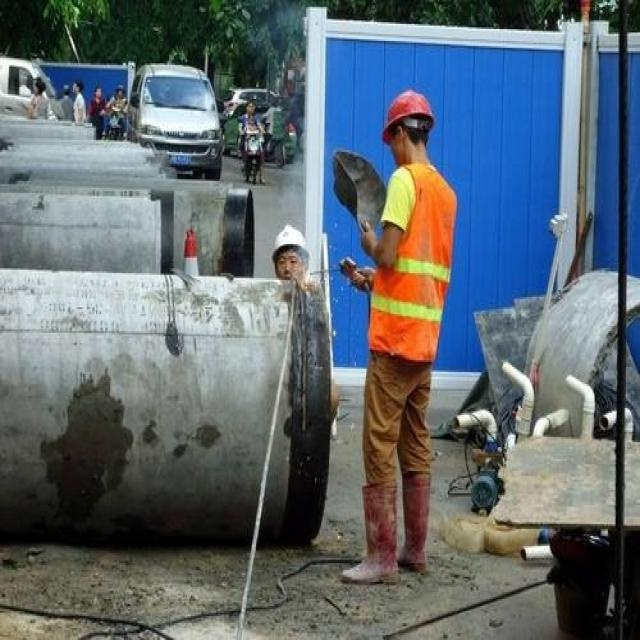Con_Chaleco: (368, 166, 457, 359)
